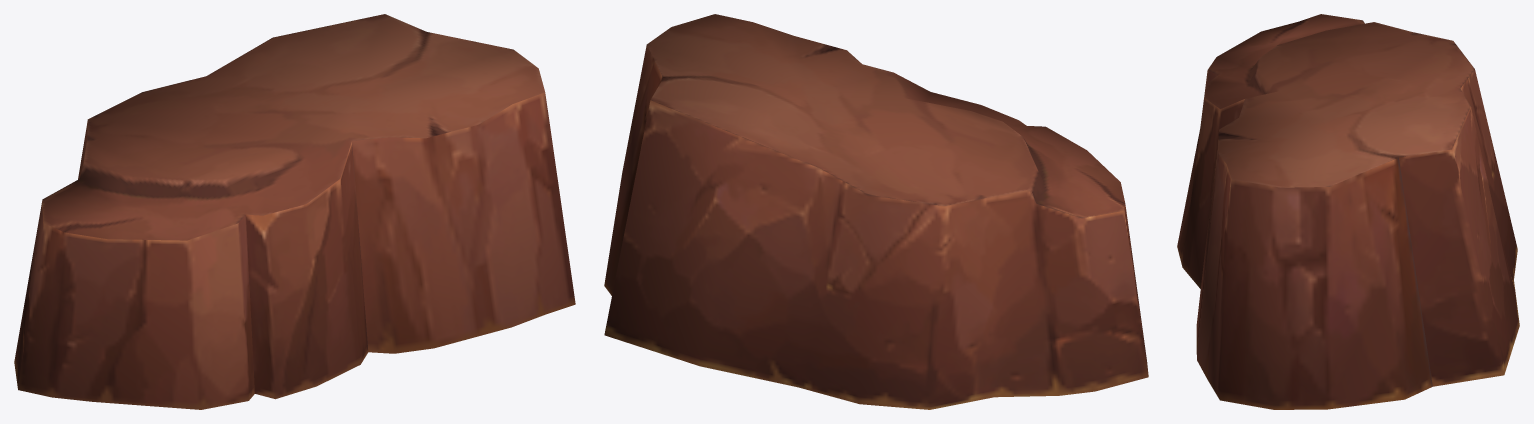
The model's file is shibi_01.FBX.
3 renders of one model, left to right at view 1: azimuth 30°, elevation 25°; view 2: azimuth 150°, elevation 25°; view 3: azimuth 270°, elevation 25°, orthographic. The views are drawn at different scales.
Visible parts, largest first — view 1: shibi_01; view 2: shibi_01; view 3: shibi_01.
Boxes of the visible parts, bbox=[...] form: shibi_01: bbox=[14, 14, 575, 409]; shibi_01: bbox=[604, 14, 1148, 409]; shibi_01: bbox=[1177, 14, 1519, 409].
Size of the model in its own units: 6.49 by 2.64 by 3.74.
